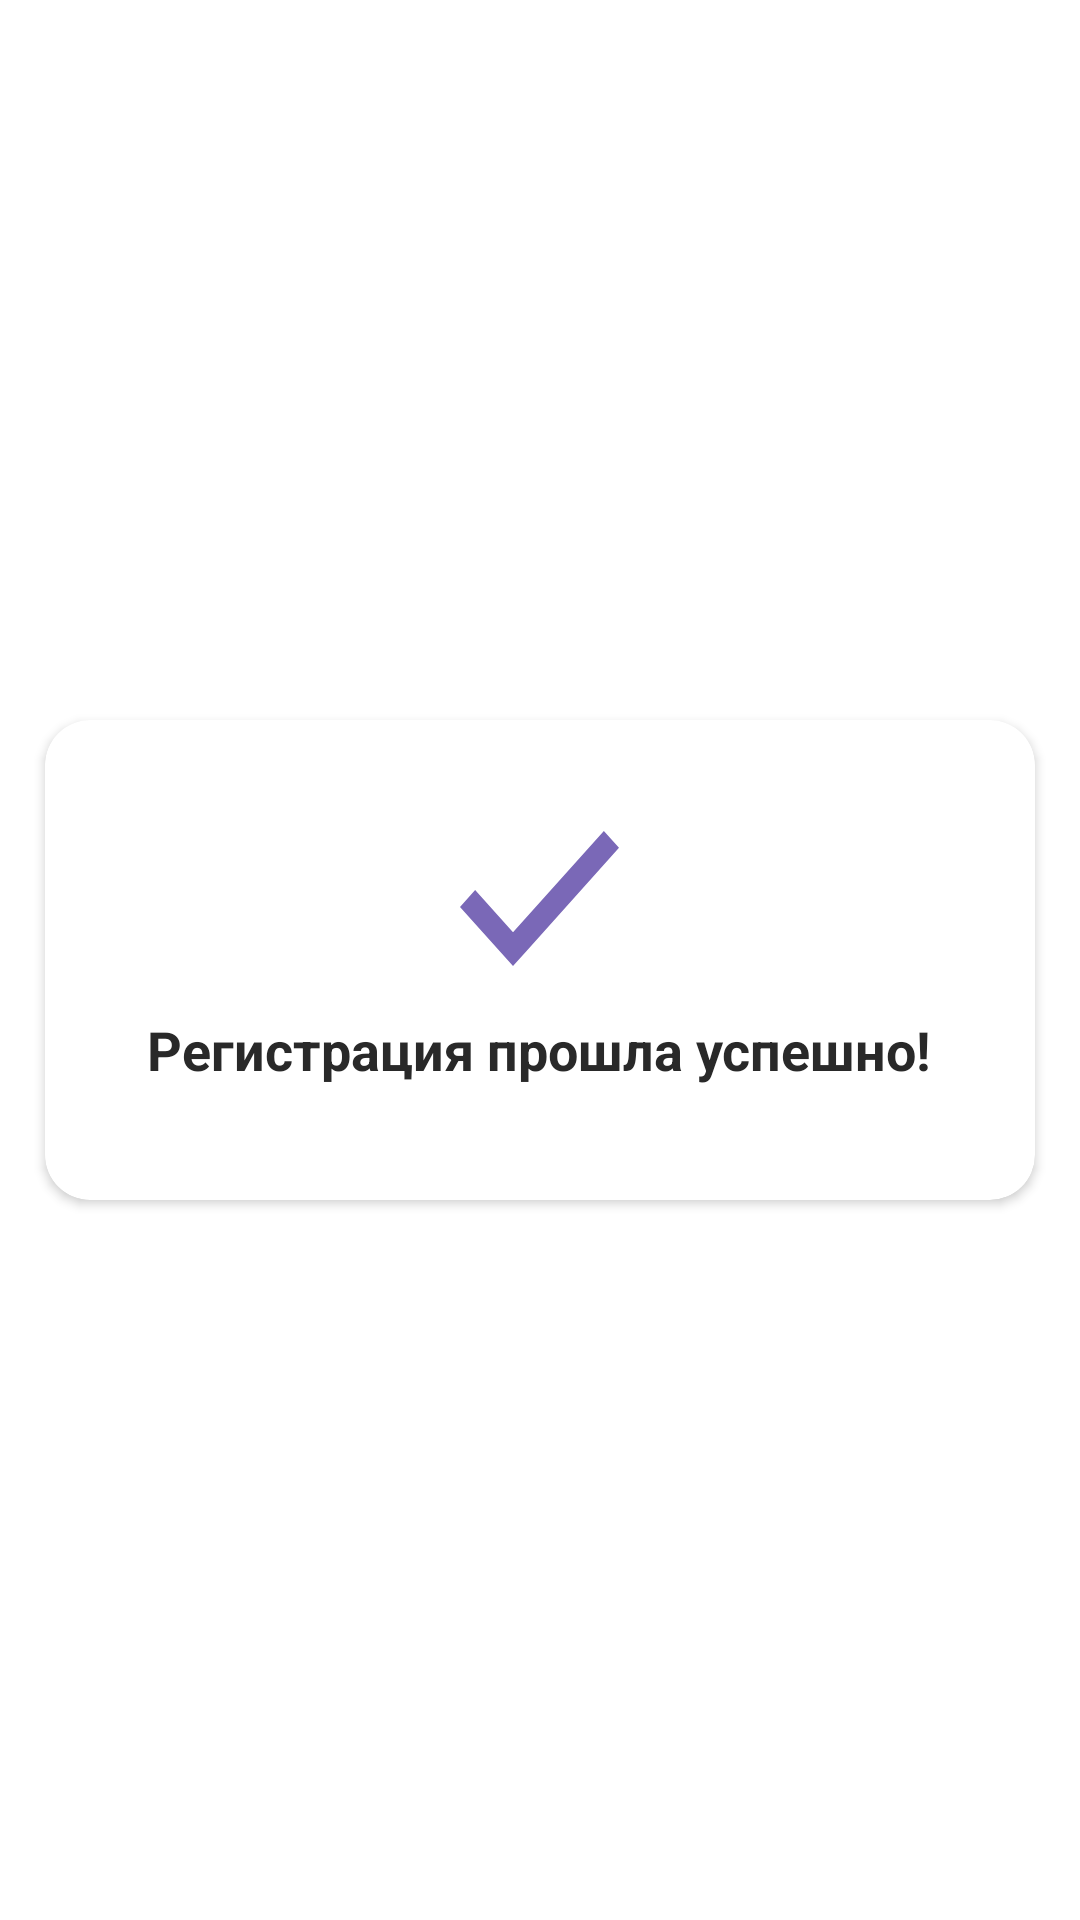

Named icons in this screenshot (1080w x 1920h) and their centers, point (x, y):
finish reg: point (539, 898)
